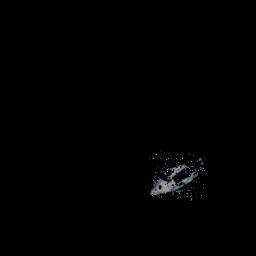boat: (144, 150, 207, 202)
